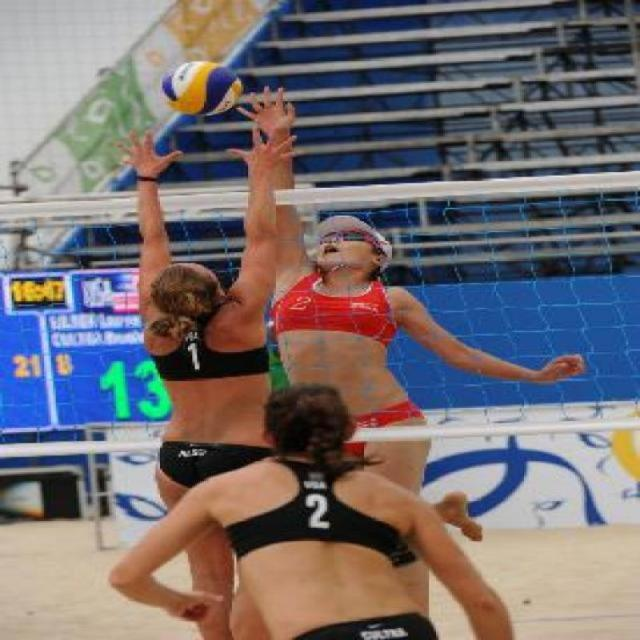volleyball: (158, 58, 242, 118)
